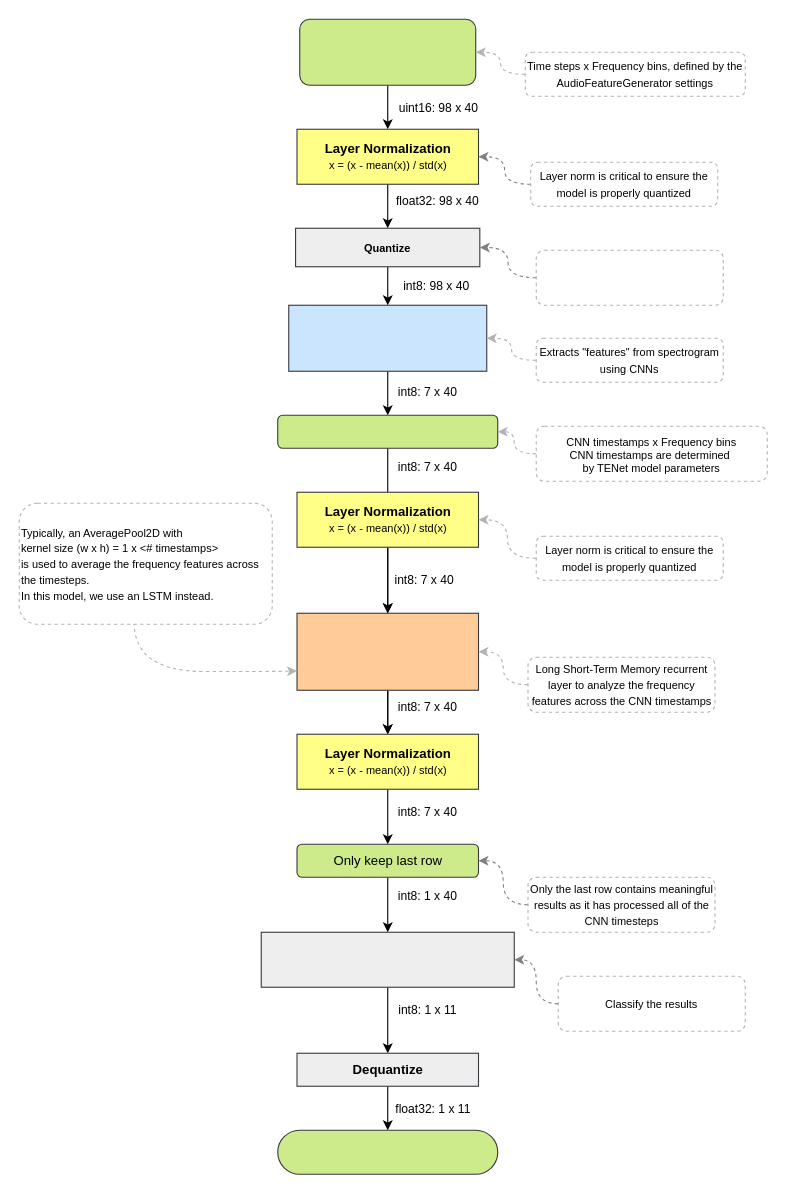
This 787x1194 diagram has some shape labels left out. Each missing label, with the centre of its shape:
"Classification Results" belongs at (387,1151).
"Convert from float32 to int8. This is automatically added by the TFLiteConverter" belongs at (629,277).
"Extracted CNN Features" belongs at (387,431).
"Fully Connected, Softmax" belongs at (387,959).
"LSTM # Cells = # Freq Bins" belongs at (387,651).
"Spectrogram # Frequency Bins = 40" belongs at (387,51).
"TENet" belongs at (387,337).
